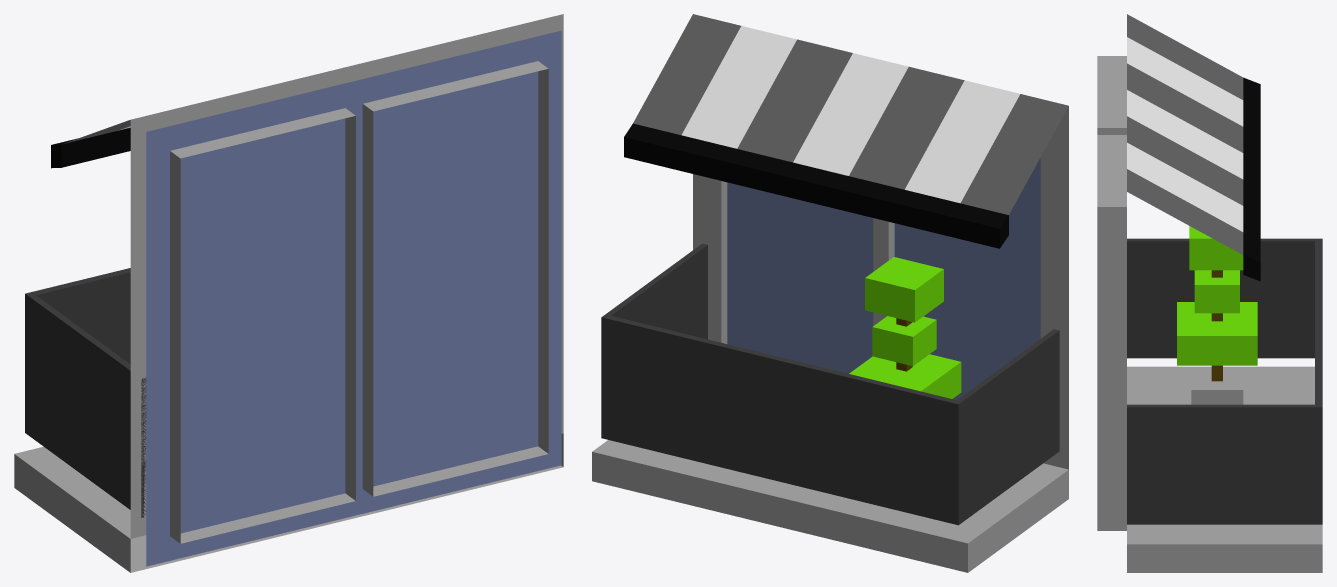
The model's file is BalconySunshadeHalf.fbx.
The picture shows the model from 3 angles, left to right: view 1: azimuth 30°, elevation 25°; view 2: azimuth 150°, elevation 25°; view 3: azimuth 270°, elevation 25°; orthographic projection. The views are drawn at different scales.
Visible parts, largest first — view 1: BalconyPlantSunshade_Half; view 2: BalconyPlantSunshade_Half; view 3: BalconyPlantSunshade_Half.
Part boxes in pixels (bbox=[...]): BalconyPlantSunshade_Half: bbox=[14, 14, 563, 572]; BalconyPlantSunshade_Half: bbox=[592, 14, 1068, 572]; BalconyPlantSunshade_Half: bbox=[1097, 14, 1322, 572].
Bounding box in the file's own units: 1 × 1 × 0.535.
